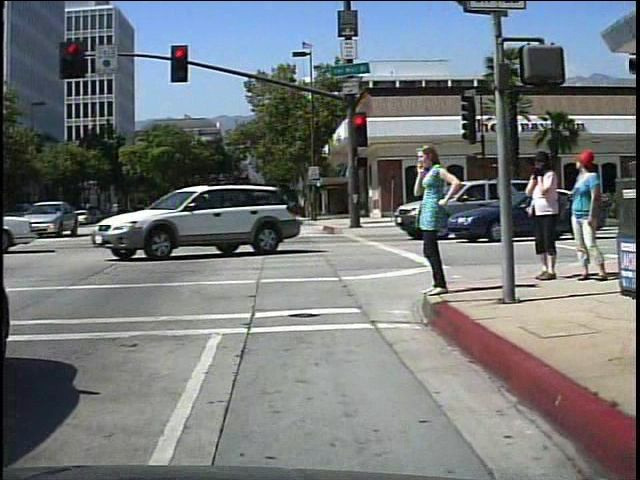person: (408, 140, 459, 301), (563, 146, 607, 284), (519, 148, 563, 286)
